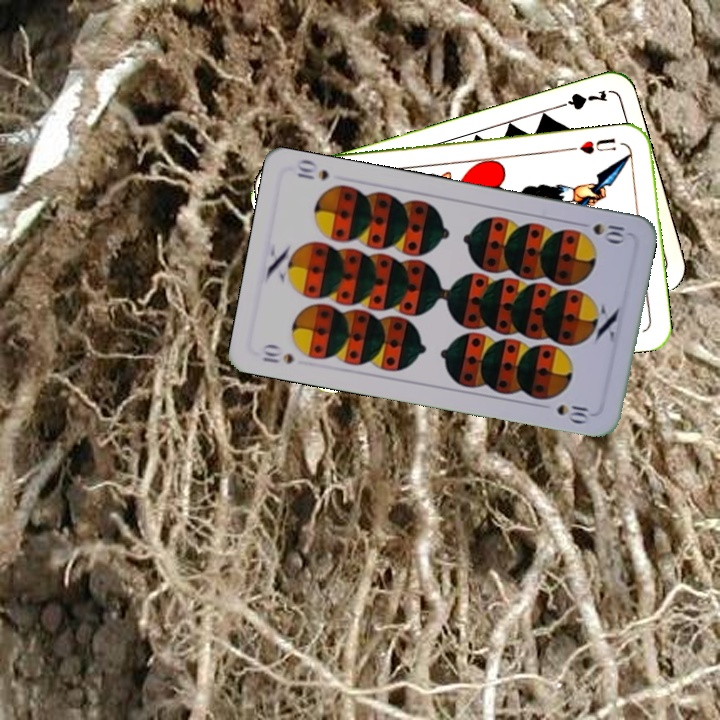G7: (551, 86, 610, 113)
HU: (575, 134, 619, 157)
S10: (572, 218, 629, 246), (258, 340, 297, 367)
